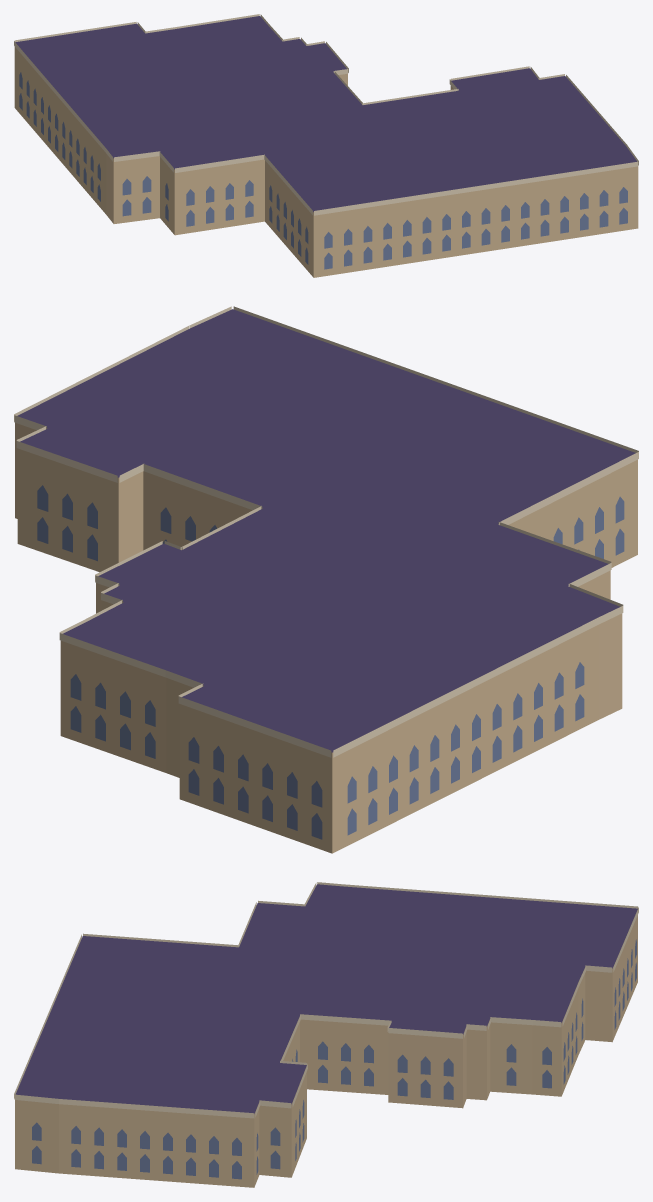
File: core-somerville-house-day.glb
The picture shows the model from 3 angles, top to bottom: view 1: azimuth 30°, elevation 25°; view 2: azimuth 150°, elevation 25°; view 3: azimuth 270°, elevation 25°; orthographic projection. The views are drawn at different scales.
Visible parts, largest first — view 1: campus/core-somerville-house-day-0; view 2: campus/core-somerville-house-day-0; view 3: campus/core-somerville-house-day-0.
Boxes of the visible parts, left/top/right/bottom form: campus/core-somerville-house-day-0: left=14, top=14, right=638, bottom=277; campus/core-somerville-house-day-0: left=14, top=306, right=638, bottom=853; campus/core-somerville-house-day-0: left=14, top=882, right=638, bottom=1187.
Bounding box in the file's own units: 70.32 × 10.65 × 80.38.
